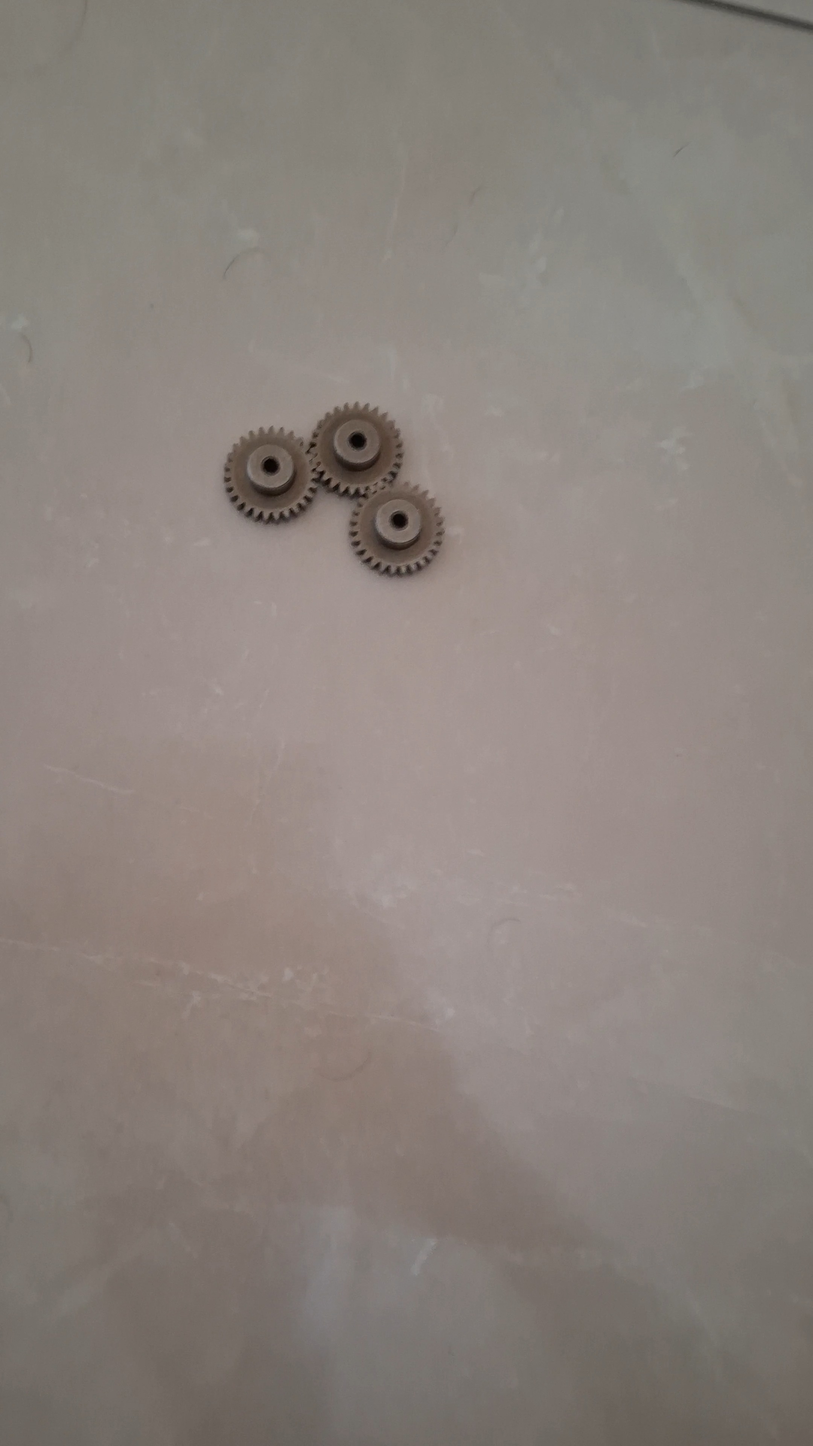spur gear: (309, 403, 403, 496), (350, 482, 444, 575), (225, 429, 318, 522)
